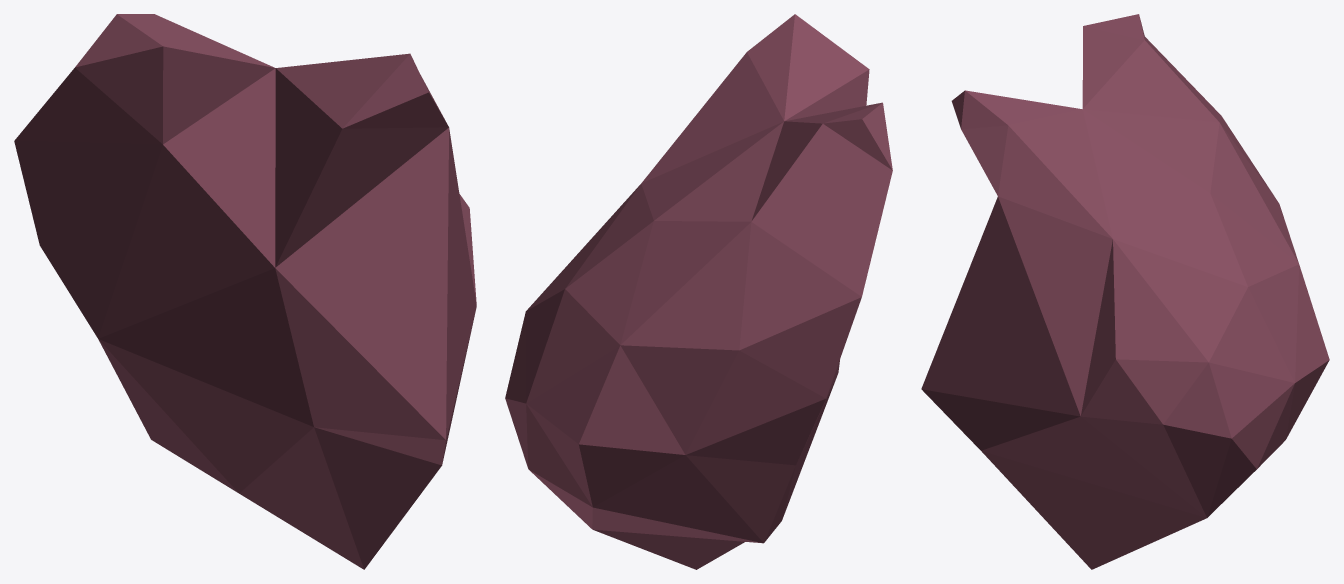
File: Model_10543_LH__Ventral_nucleus_of_the_lateral_lemniscus_(VLL).obj
3 renders of one model, left to right at view 1: azimuth 30°, elevation 25°; view 2: azimuth 150°, elevation 25°; view 3: azimuth 270°, elevation 25°, orthographic. The views are drawn at different scales.
Size of the model in its own units: 0.2165 by 0.2948 by 0.2319.
